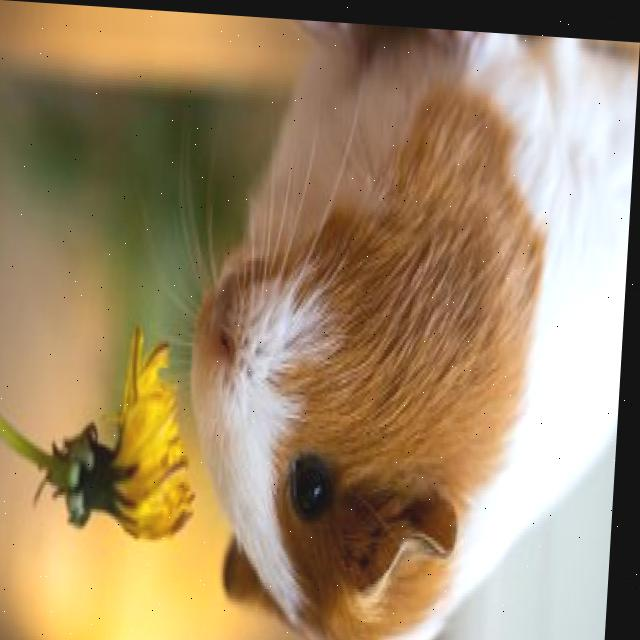guinea pig: (184, 11, 640, 640)
